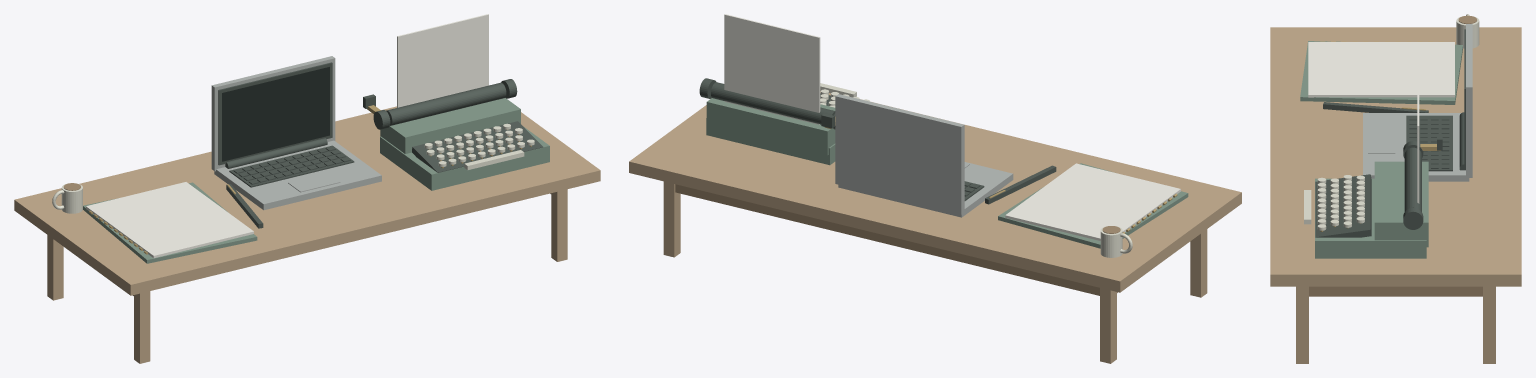
File: maker-desk.glb
The picture shows the model from 3 angles, left to right: view 1: azimuth 30°, elevation 25°; view 2: azimuth 150°, elevation 25°; view 3: azimuth 270°, elevation 25°; orthographic projection. The views are drawn at different scales.
Parts seen in each view (by area): view 1: Solid oak tabletop, LaptopScreen, NotebookPage, TypewriterPage, Laptop base, Typewriter shoulder, Typewriter base, Keyboard bed, Platen, Laptop lid, Notebook cover, Screen bezel (+10 smaller); view 2: Solid oak tabletop, Laptop lid, Paper backing, NotebookPage, Back apron, Typewriter shoulder, Laptop base, Platen, Typewriter base, Notebook cover, Oak leg.003, Oak leg.001 (+4 smaller); view 3: Solid oak tabletop, NotebookPage, Typewriter shoulder, Laptop base, Typewriter base, Keyboard bed, Side apron.001, Notebook cover, Laptop lid, Platen, Oak leg.002, Oak leg.003 (+10 smaller).
Part boxes in pixels (x1,y1,x2,y2): Solid oak tabletop: [14, 106, 600, 295]; LaptopScreen: [222, 67, 329, 161]; NotebookPage: [88, 182, 251, 254]; TypewriterPage: [400, 17, 487, 106]; Laptop base: [214, 140, 381, 210]; Typewriter shoulder: [380, 98, 520, 153]; Typewriter base: [380, 126, 549, 190]; Keyboard bed: [412, 121, 542, 172]; Platen: [386, 82, 506, 125]; Laptop lid: [211, 56, 335, 171]; Notebook cover: [83, 182, 257, 263]; Screen bezel: [218, 62, 332, 165]; Solid oak tabletop: [629, 91, 1241, 292]; Laptop lid: [835, 94, 964, 214]; Paper backing: [724, 14, 820, 124]; NotebookPage: [1007, 164, 1178, 237]; Back apron: [675, 184, 1099, 295]; Typewriter shoulder: [706, 98, 835, 155]; Laptop base: [838, 162, 1013, 217]; Platen: [711, 82, 835, 124]; Typewriter base: [706, 118, 835, 165]; Notebook cover: [998, 163, 1188, 248]; Oak leg.003: [663, 181, 680, 257]; Oak leg.001: [1100, 288, 1116, 363]; Solid oak tabletop: [1270, 27, 1521, 286]; NotebookPage: [1309, 42, 1453, 93]; Typewriter shoulder: [1374, 161, 1428, 247]; Laptop base: [1363, 113, 1469, 181]; Typewriter base: [1315, 178, 1426, 258]; Keyboard bed: [1315, 174, 1371, 237]; Side apron.001: [1309, 286, 1482, 296]; Notebook cover: [1300, 41, 1462, 104]; Laptop lid: [1466, 24, 1472, 177]; Platen: [1404, 147, 1421, 211]; Oak leg.002: [1296, 286, 1308, 363]; Oak leg.003: [1483, 286, 1495, 363].
Bounding box in the file's own units: 8.15 × 3.47 × 3.5.
